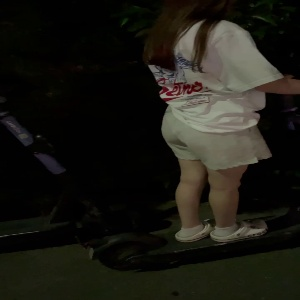human on a scooter: (77, 1, 300, 276)
